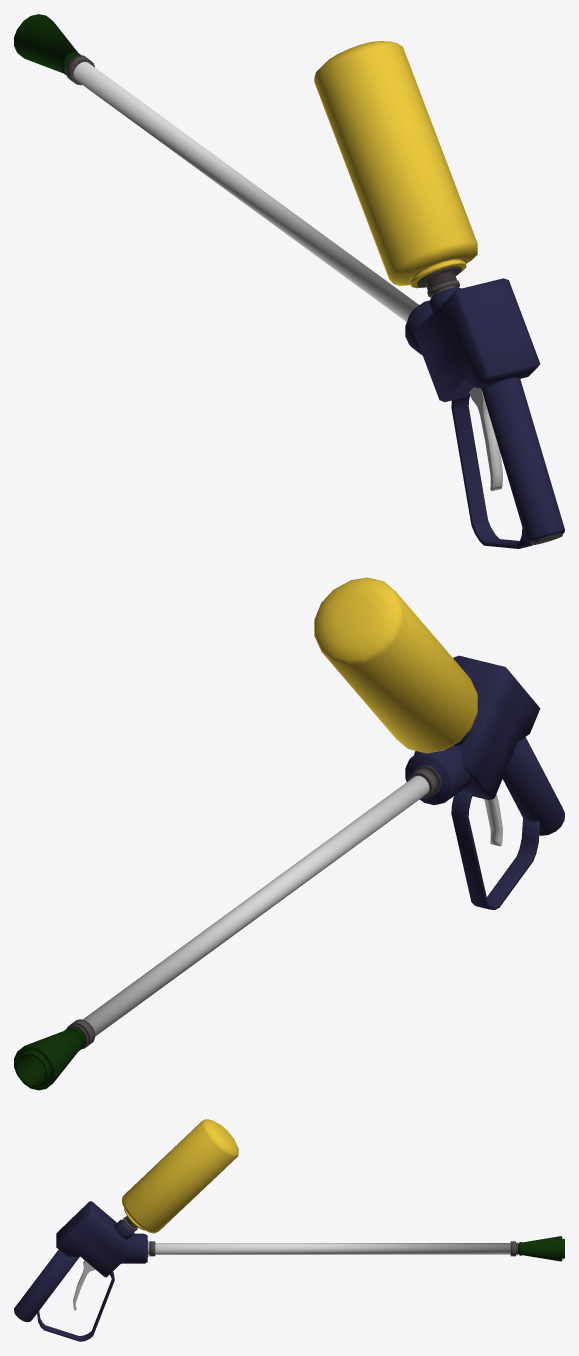
File: Weapon_Diffuser.fbx
3 views of the same model, one above another, from view 1: azimuth 30°, elevation 25°; view 2: azimuth 150°, elevation 25°; view 3: azimuth 270°, elevation 25° (orthographic). The views are drawn at different scales.
Visible parts, largest first — view 1: Diffuser.001, Tank.001, Trigger.001; view 2: Diffuser.001, Tank.001, Trigger.001; view 3: Diffuser.001, Tank.001.
Boxes of the visible parts, x1,y1,x2,y2 form: Diffuser.001: (14, 14, 564, 548); Tank.001: (314, 41, 477, 290); Trigger.001: (469, 387, 502, 491); Diffuser.001: (14, 655, 564, 1090); Tank.001: (314, 577, 477, 753); Trigger.001: (484, 794, 502, 846); Diffuser.001: (14, 1201, 564, 1341); Tank.001: (122, 1119, 238, 1233).
Size of the model in its own units: 43.89 by 211 by 485.
